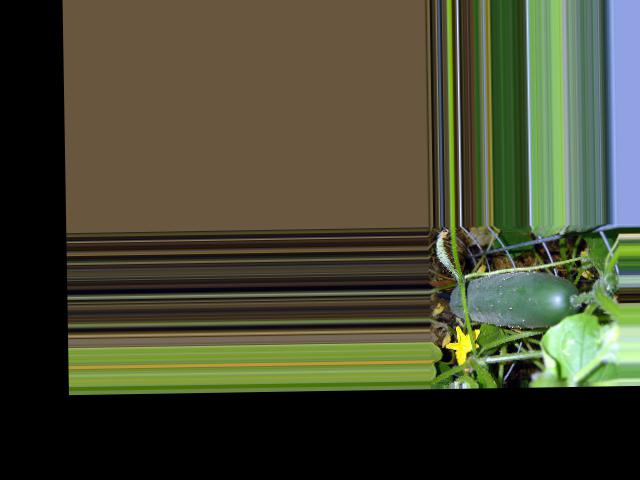cucumber: (450, 269, 580, 328)
